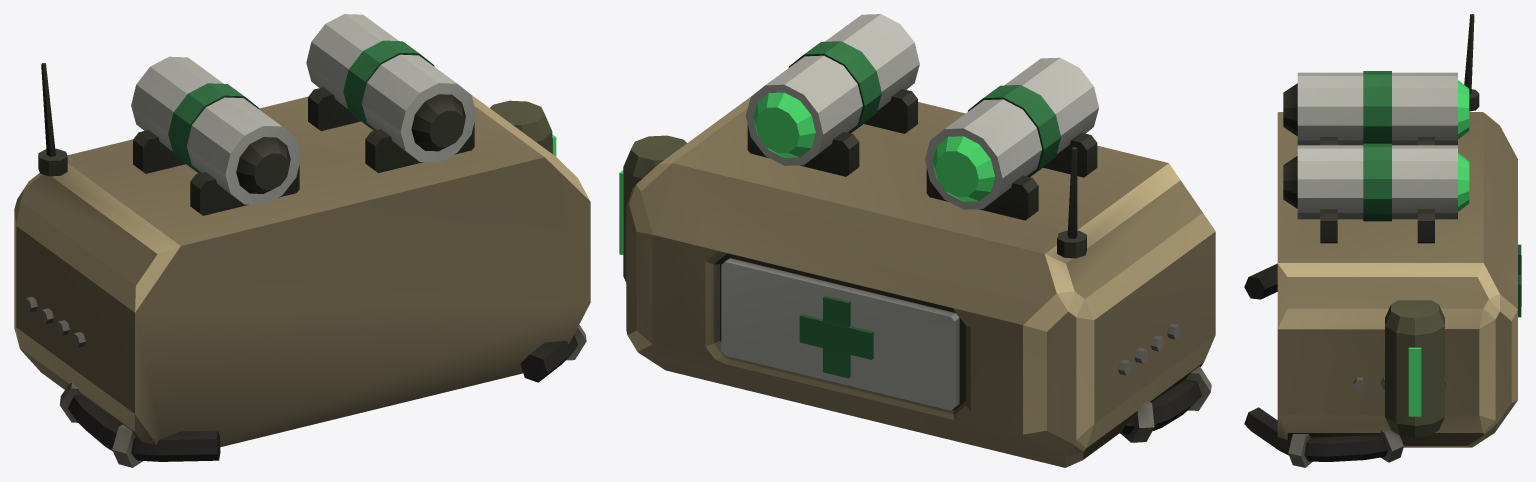
Rendered from pack-medic.glb.
3 views of the same model, side by side, from view 1: azimuth 30°, elevation 25°; view 2: azimuth 150°, elevation 25°; view 3: azimuth 270°, elevation 25° (orthographic). The views are drawn at different scales.
Parts seen in each view (by area): view 1: Body; view 2: Body, Glow; view 3: Body, Glow.
Boxes of the visible parts, left/top/right/bottom form: Body: left=14, top=14, right=590, bottom=467; Body: left=623, top=14, right=1215, bottom=467; Glow: left=619, top=92, right=994, bottom=254; Body: left=1244, top=14, right=1521, bottom=467; Glow: left=1408, top=80, right=1469, bottom=416.
Bounding box in the file's own units: 1.74 × 1.06 × 0.9692.
